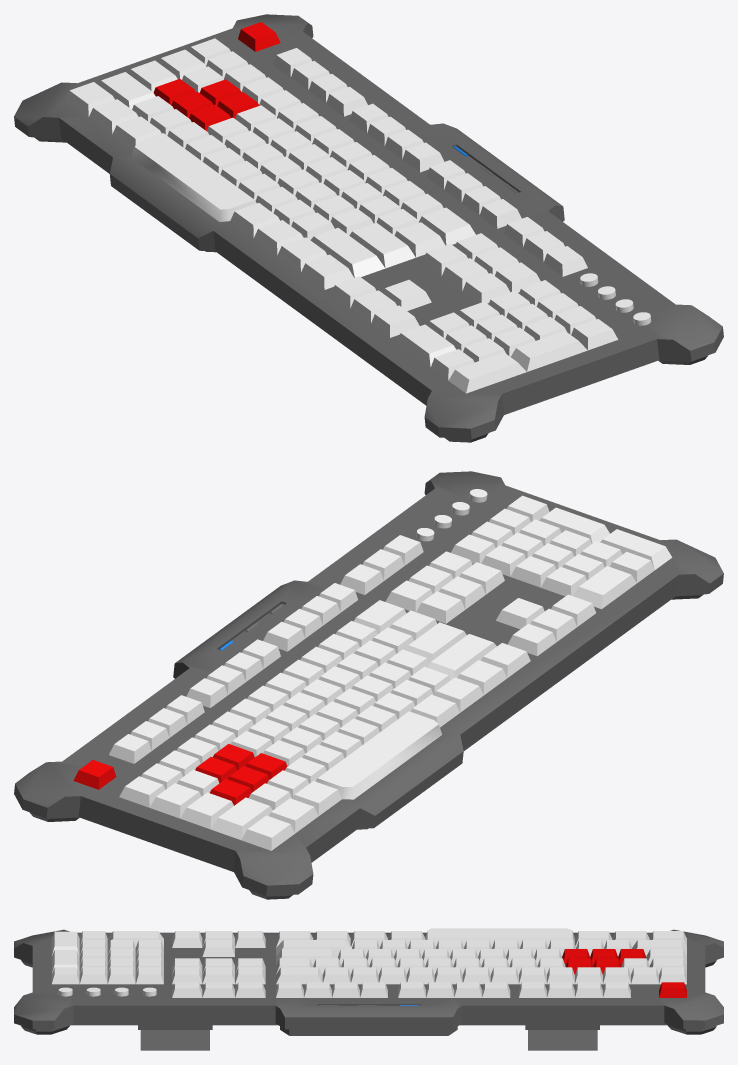
The model's file is computer table with work stuff.fbx.
3 renders of one model, top to bottom at view 1: azimuth 30°, elevation 25°; view 2: azimuth 150°, elevation 25°; view 3: azimuth 270°, elevation 25°, orthographic. The views are drawn at different scales.
Parts seen in each view (by area): view 1: saitek_gaming_keyboard_v2_1; view 2: saitek_gaming_keyboard_v2_1; view 3: saitek_gaming_keyboard_v2_1.
Boxes of the visible parts, box(x1,y1,x2,y2) form: saitek_gaming_keyboard_v2_1: box(14, 14, 723, 442); saitek_gaming_keyboard_v2_1: box(14, 471, 723, 899); saitek_gaming_keyboard_v2_1: box(14, 928, 723, 1050).
Bounding box in the file's own units: 0.2503 × 0.0563 × 0.6805.
